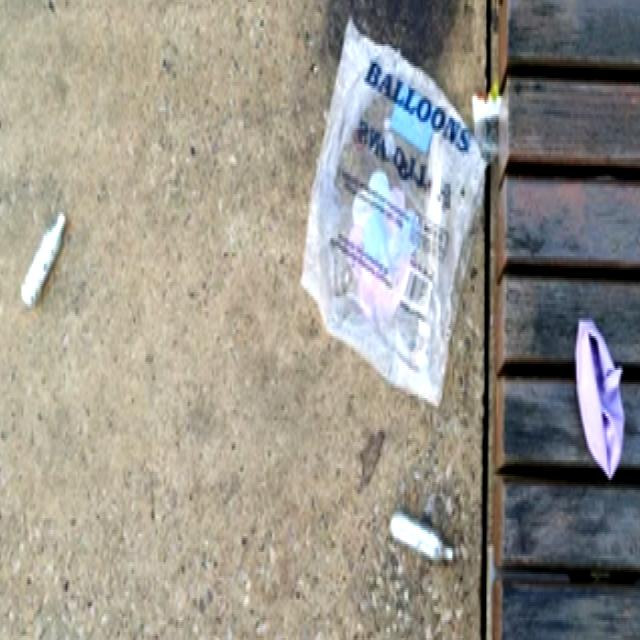Trash: (295, 11, 492, 419), (573, 315, 628, 479)
